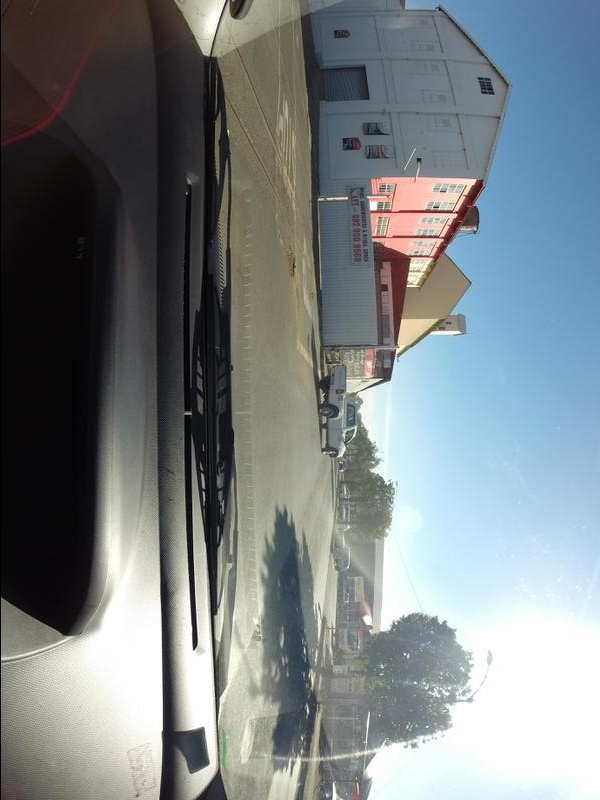pothole: (278, 246, 304, 288)
